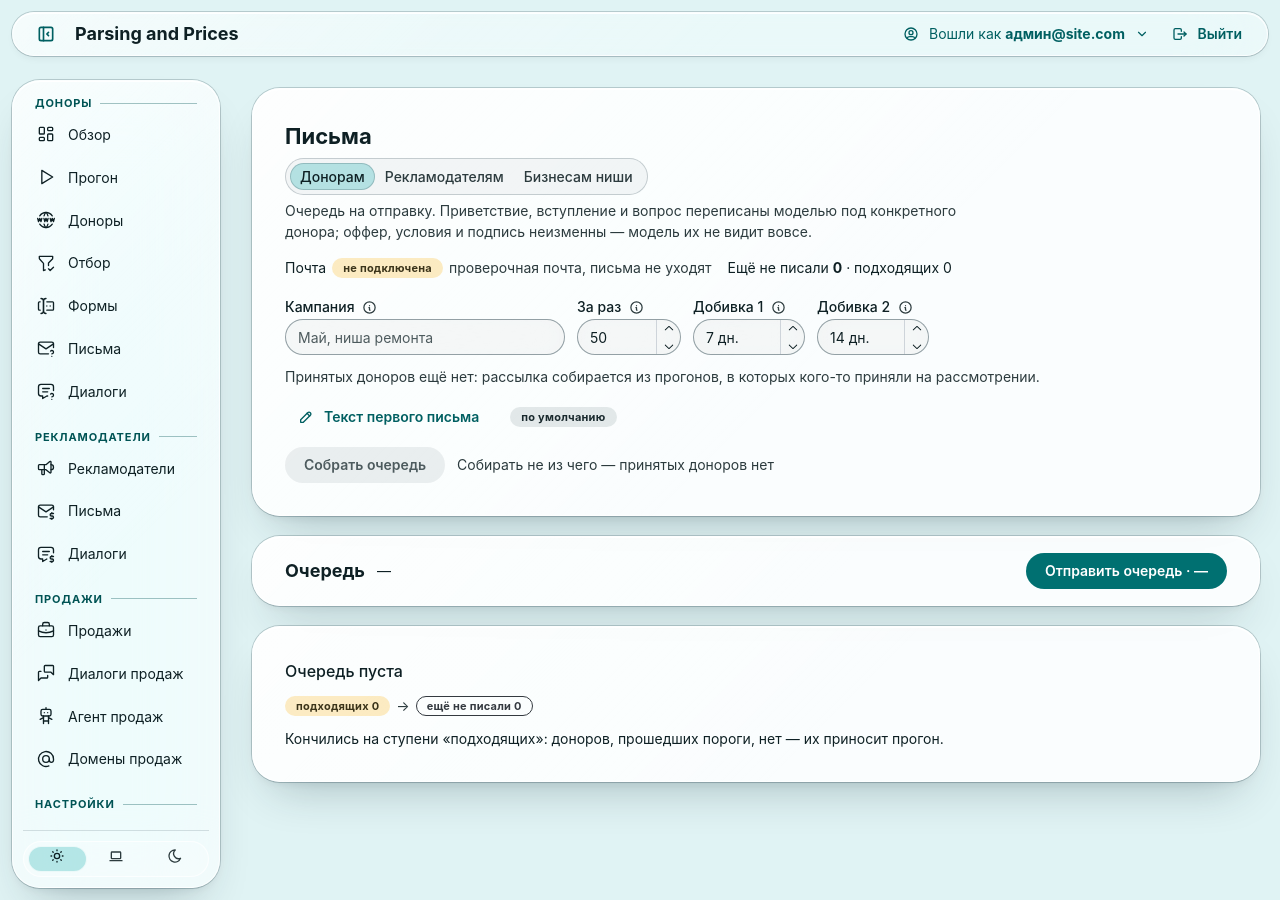
Test case: экран писем: следующий адрес › рекламодателям — число словом «рекламодателей» и без совета про карточку
Expected: the text "Очередь пуста" is shown, [285,662,403,682]
Click the 1st radio button labelled "Рекламодателям".
click(444, 177)  # box [375,163,514,190]
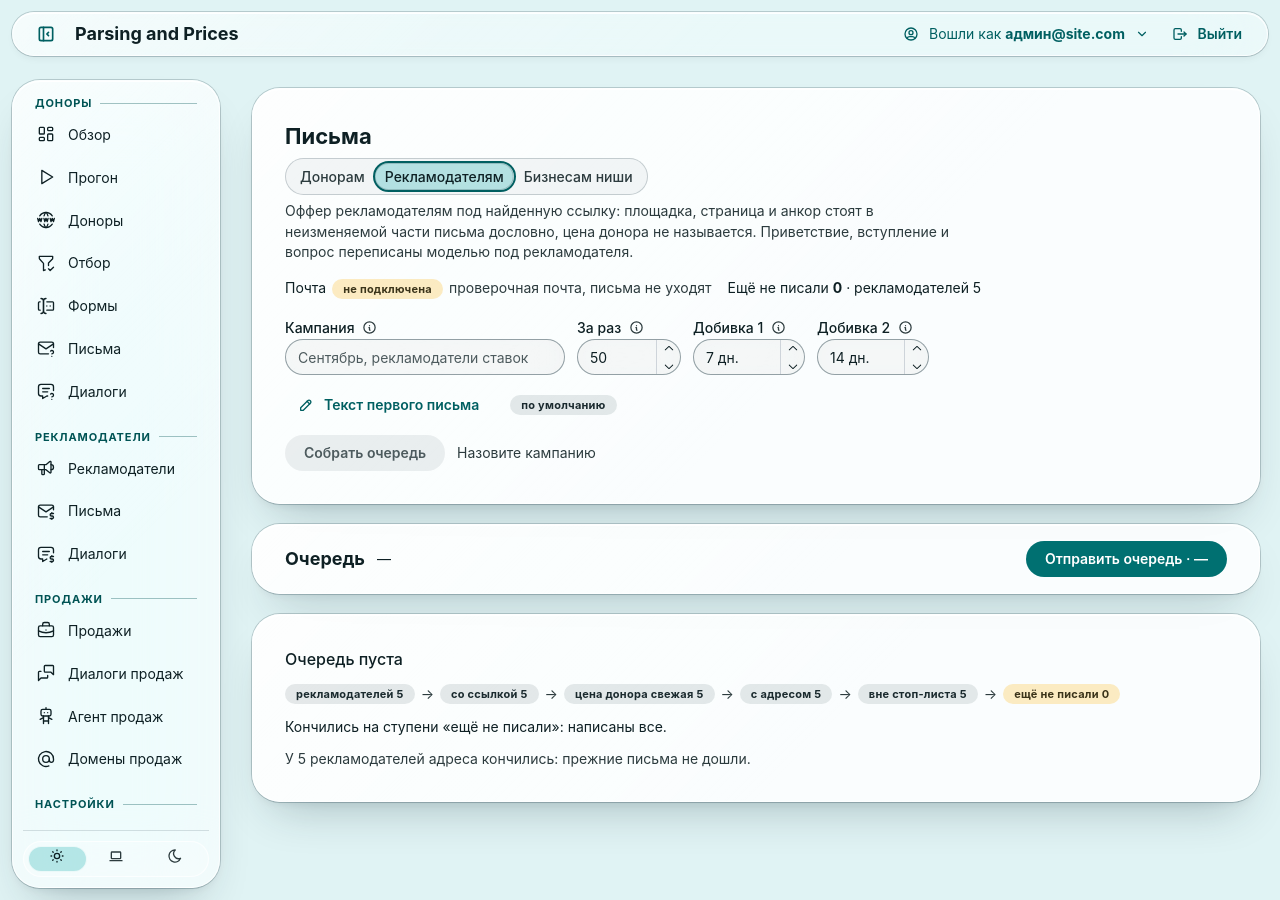
Result: the text "У 5 рекламодателей адреса кончились: прежние письма не дошли." is shown at [285,750,751,767]
